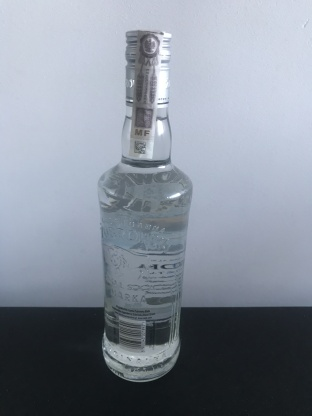nakretka: (123, 25, 174, 111)
